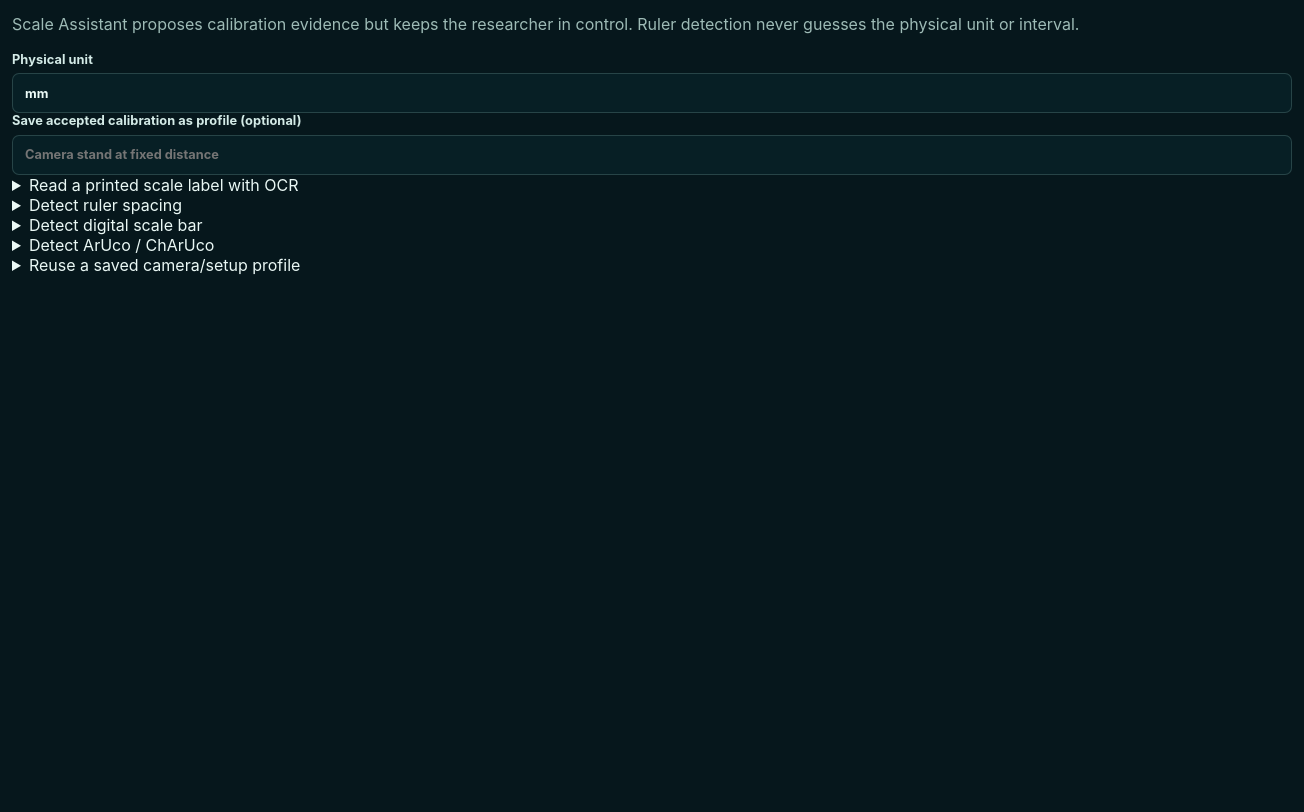
CalibrationAssistant › clears detected evidence when the active image changes
Click the heading "Detect ruler spacing" at x=105, y=205, box left=29, top=195, right=182, bottom=215
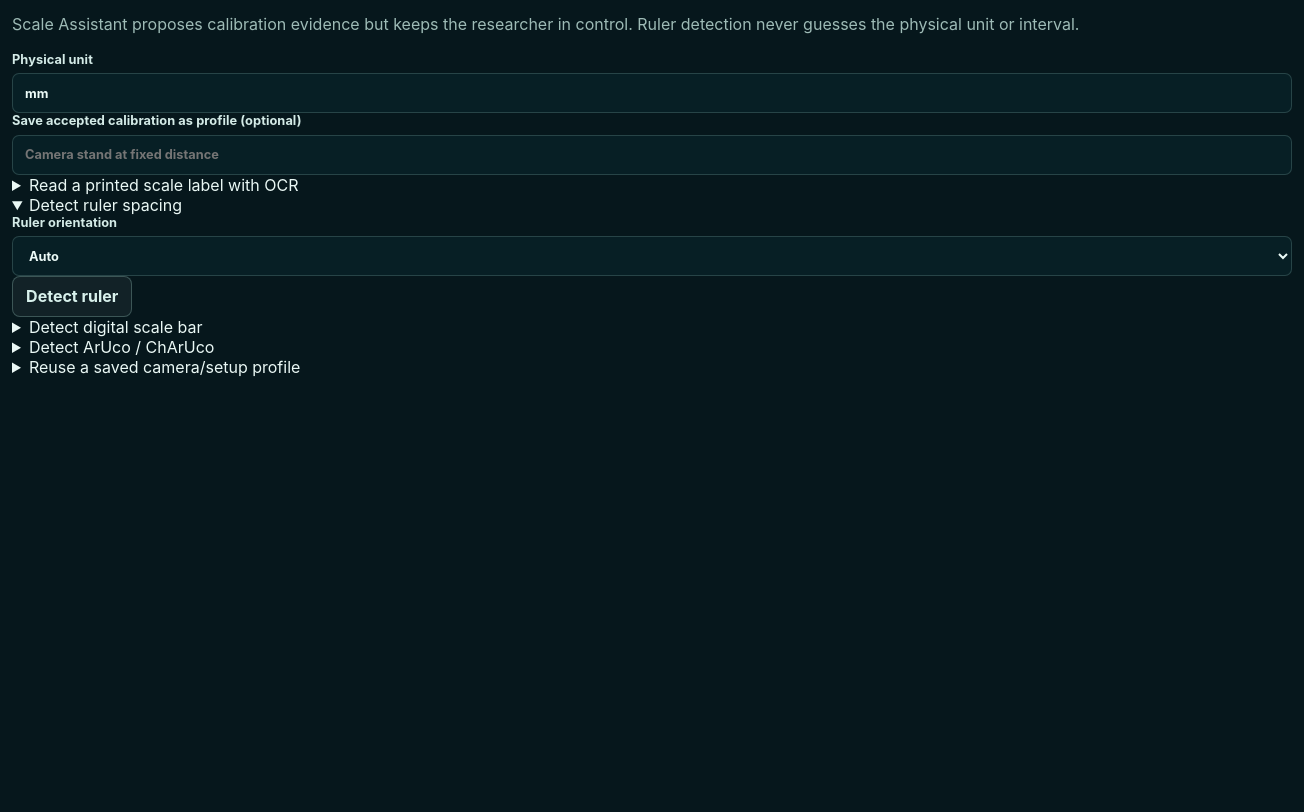
Click the button "Detect ruler" at x=72, y=296, box left=12, top=276, right=132, bottom=317
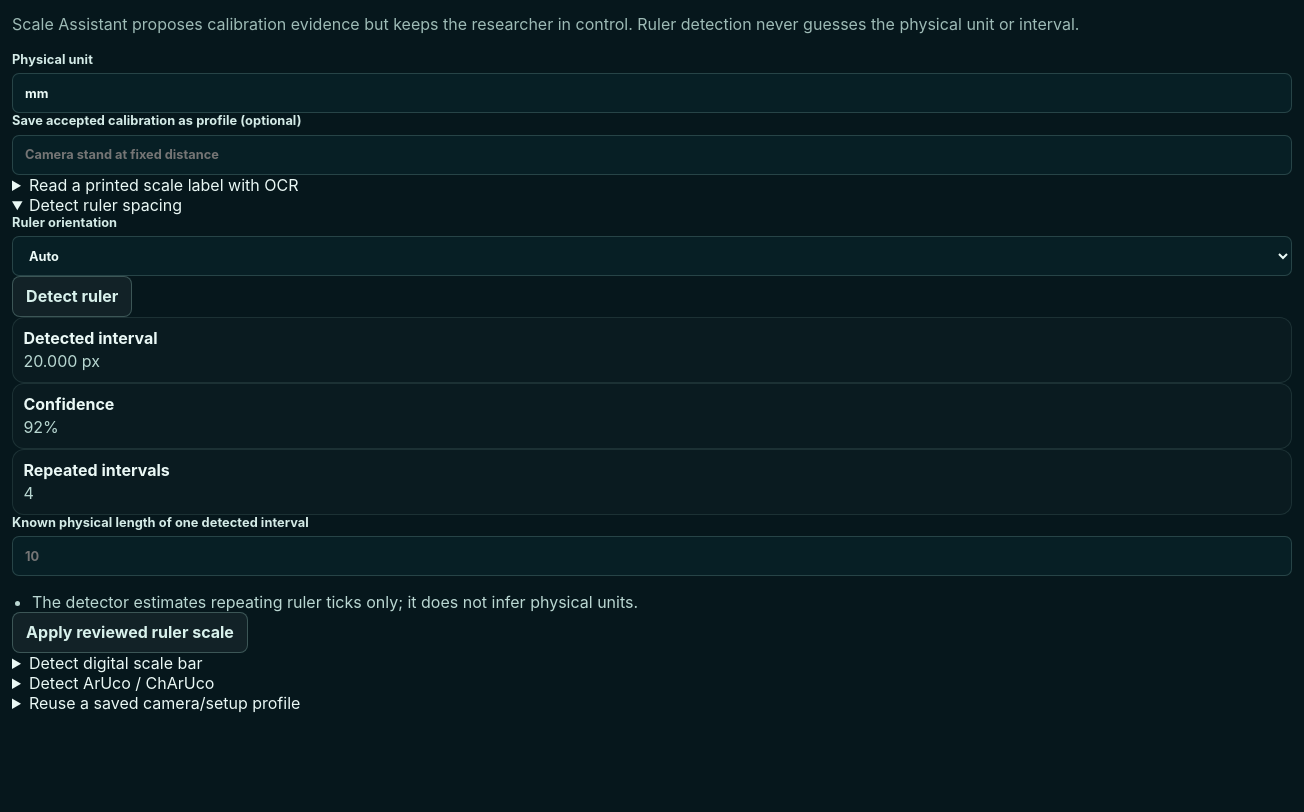
Expected: the text "20.000 px" is shown, left=23, top=351, right=100, bottom=371
